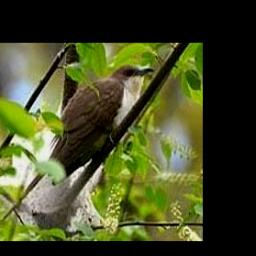Cuckoo: (4, 64, 154, 219)
